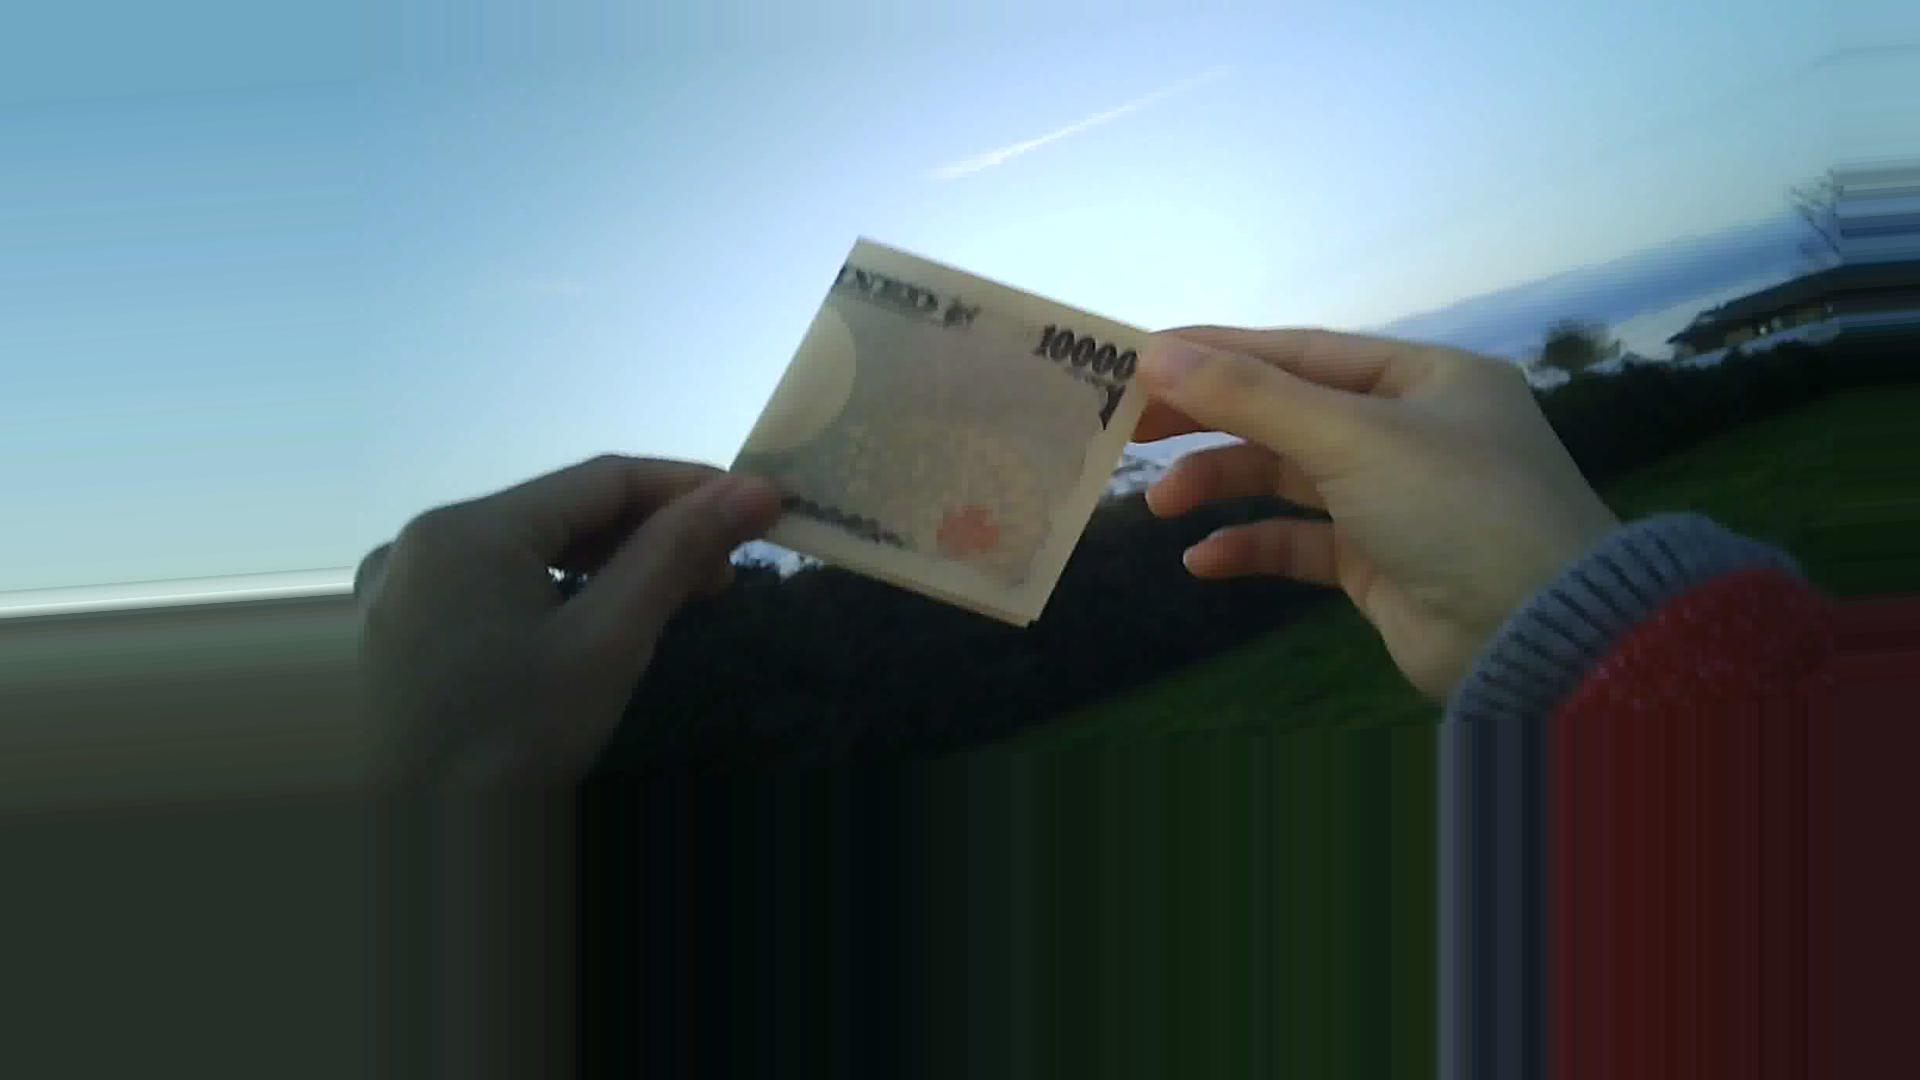10,000 Yen: (703, 220, 1153, 629)
